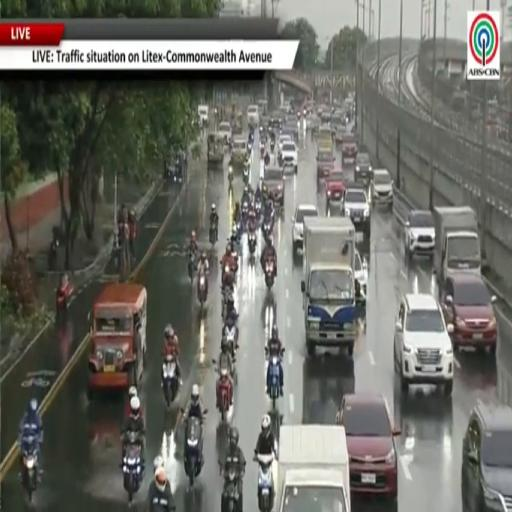car: (336, 393, 401, 499), (394, 294, 453, 395), (462, 403, 511, 511), (441, 272, 498, 354), (341, 183, 370, 239), (405, 211, 435, 260), (292, 204, 318, 254), (263, 165, 284, 210), (370, 169, 394, 208), (325, 168, 345, 207), (354, 251, 368, 297), (317, 148, 335, 183), (354, 149, 372, 184), (279, 141, 297, 173), (342, 133, 357, 165), (218, 121, 232, 145), (318, 124, 332, 148), (283, 121, 298, 141), (268, 114, 282, 135), (278, 134, 293, 152), (247, 105, 259, 127), (198, 105, 208, 126)
jeepney: (88, 283, 146, 396), (207, 133, 224, 167), (230, 137, 247, 169), (231, 111, 243, 135), (257, 100, 267, 116)
motorcycle: (123, 432, 143, 503), (184, 416, 202, 487), (21, 436, 38, 502), (255, 454, 274, 511), (221, 463, 241, 511), (162, 356, 179, 408), (216, 368, 232, 423), (268, 356, 280, 409), (56, 285, 72, 315), (224, 325, 238, 357), (48, 237, 59, 270), (198, 274, 207, 308), (265, 260, 275, 290), (222, 265, 234, 287), (188, 250, 196, 281), (208, 223, 218, 246), (262, 220, 272, 242), (231, 244, 238, 275), (236, 216, 243, 243), (248, 232, 256, 255), (242, 200, 249, 221), (243, 165, 250, 185), (255, 198, 261, 219), (228, 166, 233, 187), (260, 143, 265, 158), (270, 140, 275, 152)
truck: (301, 217, 365, 356), (274, 425, 350, 511), (433, 206, 481, 284)
